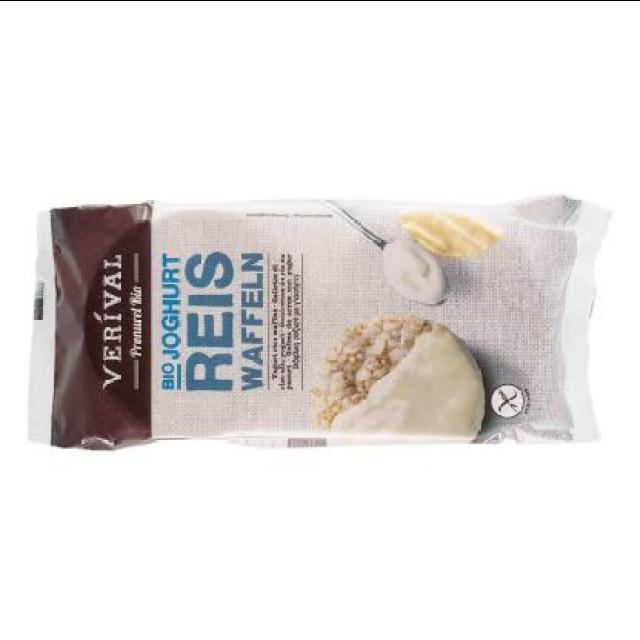Gallette di riso: (20, 190, 620, 453)
